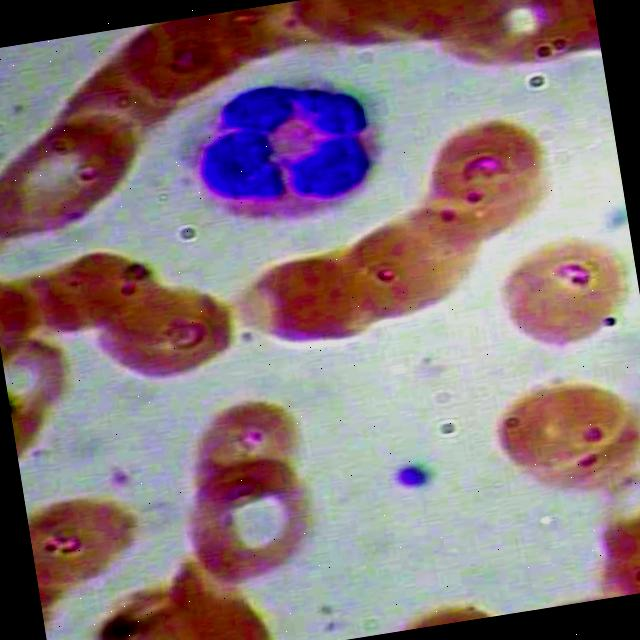Platelets: (388, 446, 446, 512)
RBC: (75, 260, 255, 410), (389, 102, 562, 254), (224, 224, 396, 376), (323, 186, 495, 338), (16, 28, 198, 170), (473, 215, 640, 367), (0, 90, 152, 255), (482, 359, 640, 511), (178, 448, 327, 597), (95, 5, 282, 114), (176, 385, 314, 509), (189, 0, 376, 90), (23, 472, 152, 601), (16, 243, 163, 350), (153, 542, 292, 640), (420, 0, 581, 81), (80, 564, 223, 640), (289, 0, 444, 70), (354, 0, 509, 60), (0, 325, 78, 430), (514, 0, 602, 64), (0, 257, 35, 361)
WBC: (179, 59, 397, 248)
